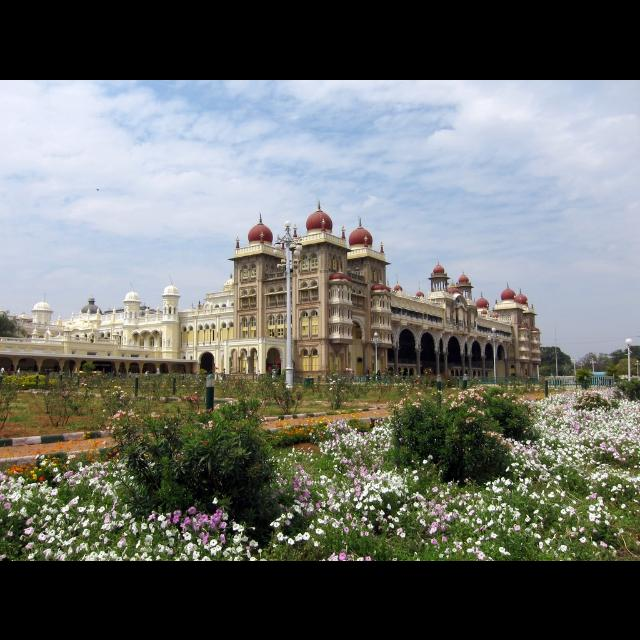Flower: (1, 364, 640, 560), (181, 529, 195, 541)
